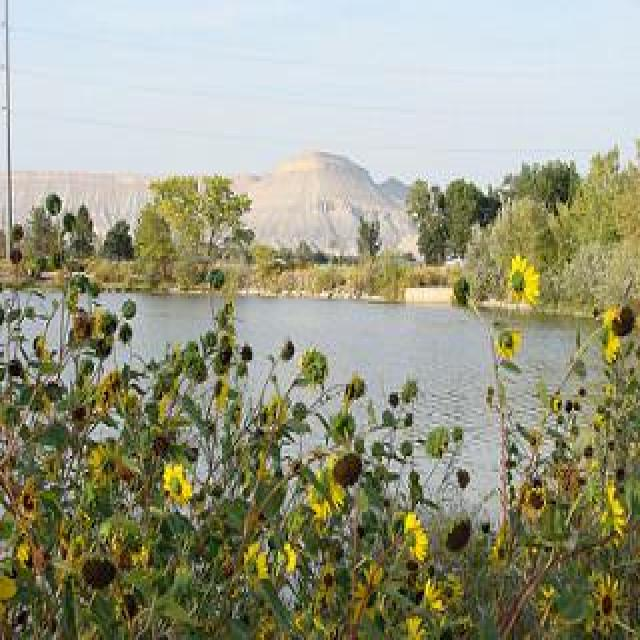sunflower: (600, 304, 634, 363), (509, 252, 539, 313), (310, 469, 344, 517), (605, 487, 627, 548), (595, 572, 618, 628), (164, 464, 192, 509), (421, 580, 449, 625), (403, 511, 429, 558), (241, 545, 267, 579), (92, 445, 116, 479), (523, 487, 549, 516), (495, 332, 520, 354), (321, 568, 335, 602), (215, 376, 230, 404), (282, 545, 295, 572)
